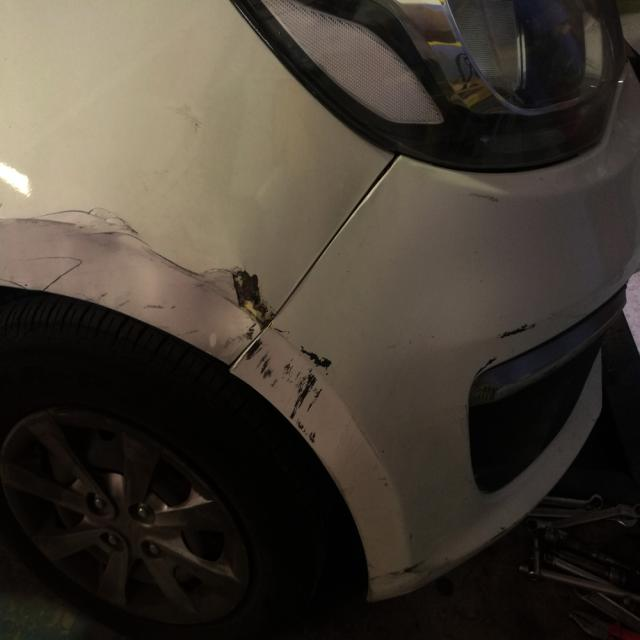dent: (42, 210, 257, 356)
scratch: (242, 318, 337, 448), (475, 318, 535, 374), (231, 265, 273, 324)
